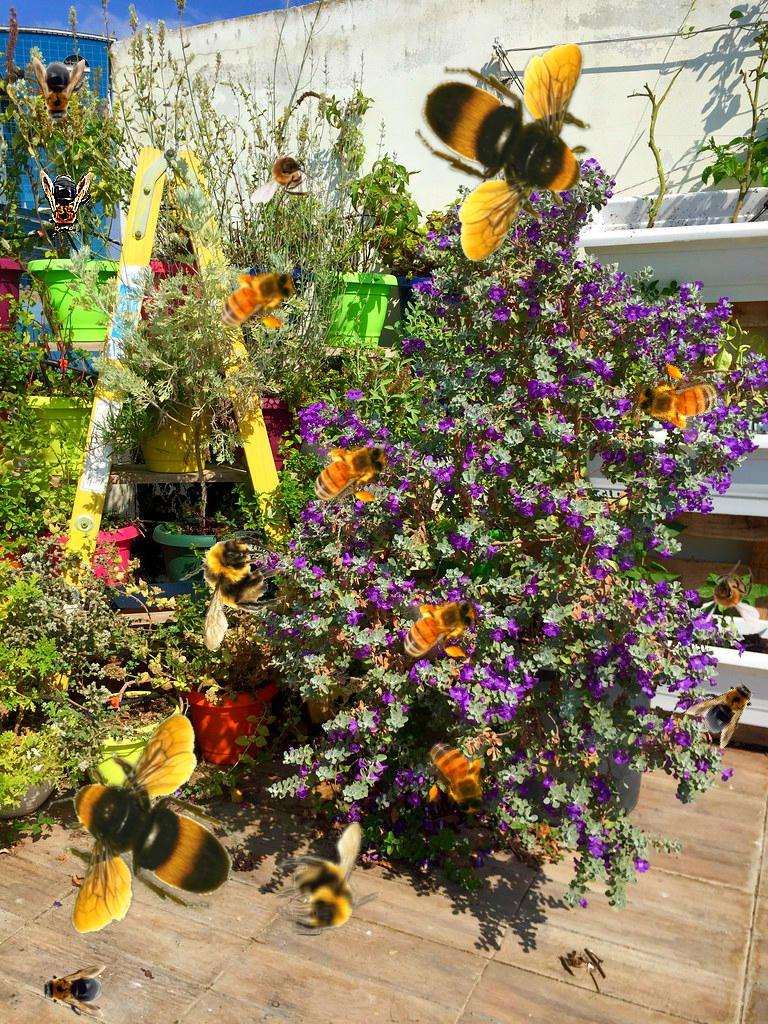Bee: (415, 43, 606, 263), (49, 713, 240, 933), (174, 527, 293, 654), (274, 821, 381, 936), (622, 350, 736, 453), (684, 664, 768, 750), (389, 592, 485, 663), (208, 264, 301, 332), (424, 729, 492, 822), (301, 438, 394, 506), (699, 560, 760, 630), (250, 142, 320, 203), (40, 170, 92, 238), (33, 57, 85, 125), (38, 965, 106, 1017)
